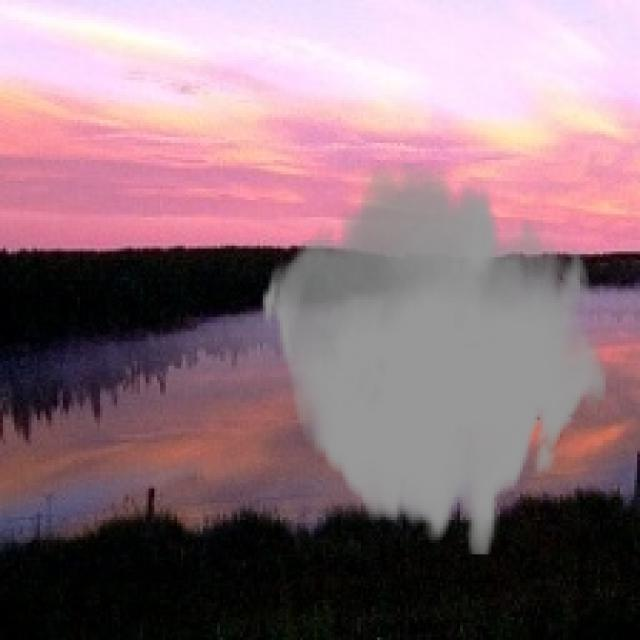smoke: (260, 163, 609, 554)
